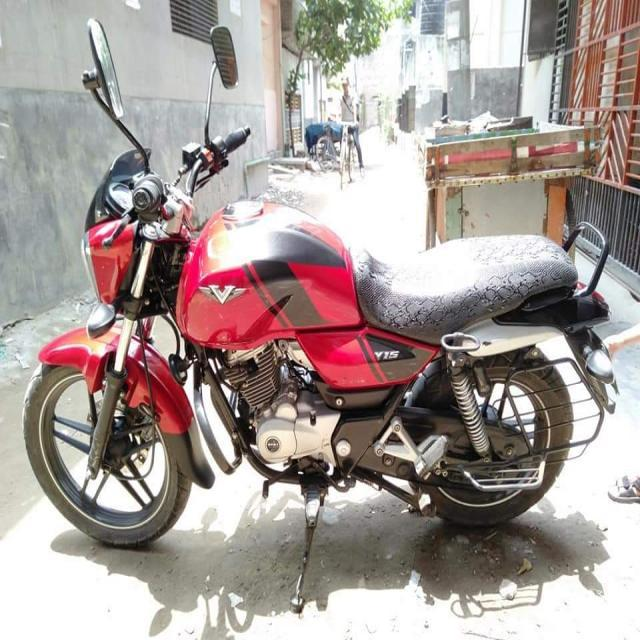Motorbike: (19, 12, 620, 592)
